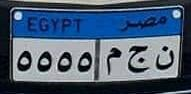5: (15, 47, 33, 76), (76, 49, 94, 76), (35, 51, 54, 75), (55, 51, 73, 76)
jeem: (125, 45, 151, 78)
meem: (105, 45, 122, 76)
noon: (154, 43, 176, 73)
